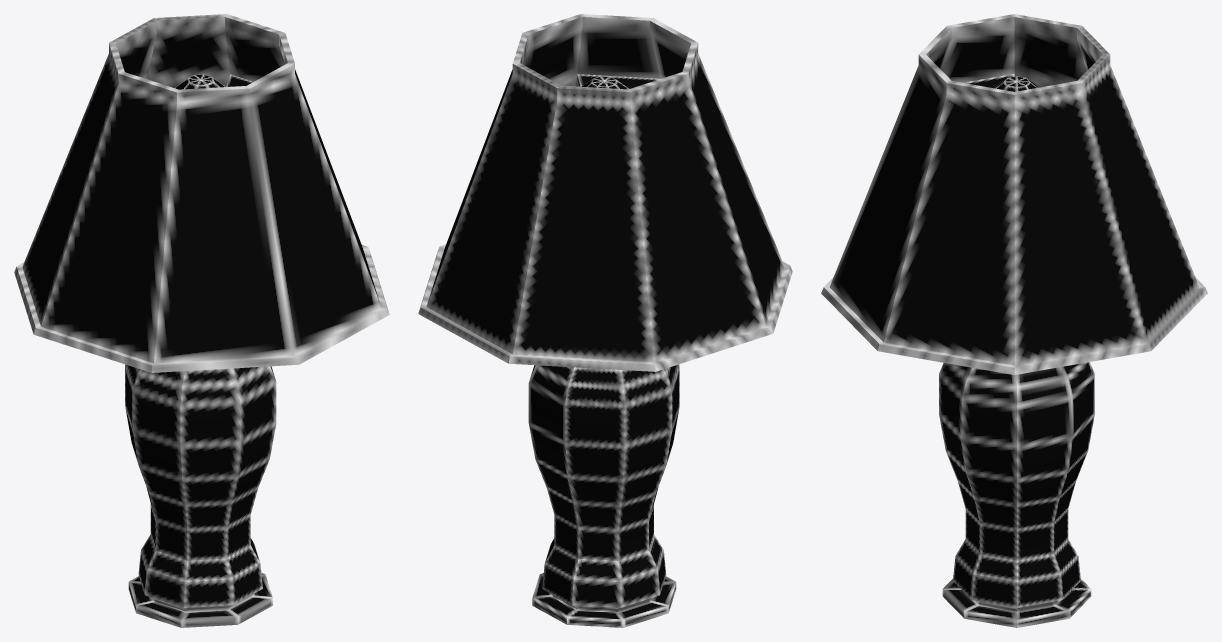
File: lamp1.fbx
3 renders of one model, left to right at view 1: azimuth 30°, elevation 25°; view 2: azimuth 150°, elevation 25°; view 3: azimuth 270°, elevation 25°, orthographic.
Visible parts, largest first — view 1: pCylinder3; view 2: pCylinder3; view 3: pCylinder3.
Part boxes in pixels (x1,y1,x2,y2): pCylinder3: (14, 14, 389, 627); pCylinder3: (418, 14, 792, 627); pCylinder3: (821, 14, 1207, 627).
Bounding box in the file's own units: 0.2778 × 0.4297 × 0.2778.
